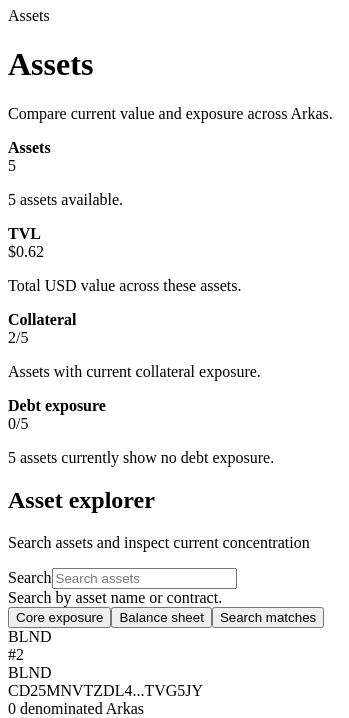
Scenario: manager and asset explorers › announces asset refresh while preserving indexed rows during a slower filter
Later steps or results of the test are not shown.
Type "usdc" into the search field with test id "assets-search-input".
click(144, 578); type("usdc")  # box top-left (52, 568), bottom-right (236, 589)
(page scrolled)
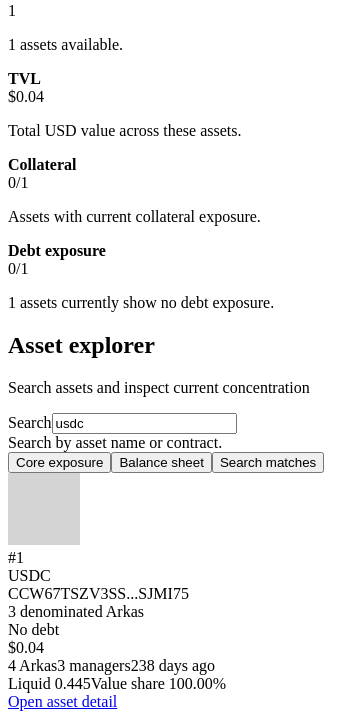
Expected: the element with test id "asset-card" is shown, top-left (8, 473), bottom-right (226, 710)
Expected: the element with test id "assets-list-panel" shows "USDC", top-left (8, 567), bottom-right (51, 584)
